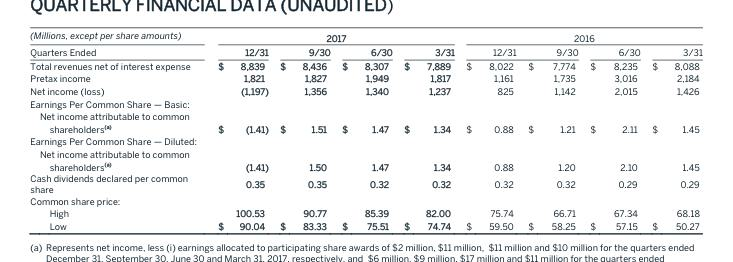table: (29, 28, 701, 231)
table column: (29, 28, 203, 231), (203, 28, 273, 231), (273, 28, 335, 231), (335, 28, 397, 231), (397, 28, 459, 231), (459, 28, 521, 231), (521, 28, 583, 231), (583, 28, 645, 231), (645, 28, 701, 231)
table column header: (29, 28, 701, 57)
table projected row header: (29, 96, 701, 109), (29, 134, 701, 146), (29, 194, 701, 206)
table row: (29, 109, 701, 134), (29, 146, 701, 171), (29, 171, 701, 194), (29, 28, 701, 44), (29, 57, 701, 71), (29, 44, 701, 57), (29, 83, 701, 96), (29, 96, 701, 109), (29, 218, 701, 231), (29, 71, 701, 83), (29, 134, 701, 146), (29, 194, 701, 206), (29, 206, 701, 218)
table spanning cell: (29, 28, 203, 57), (203, 28, 459, 44), (459, 28, 701, 44)
